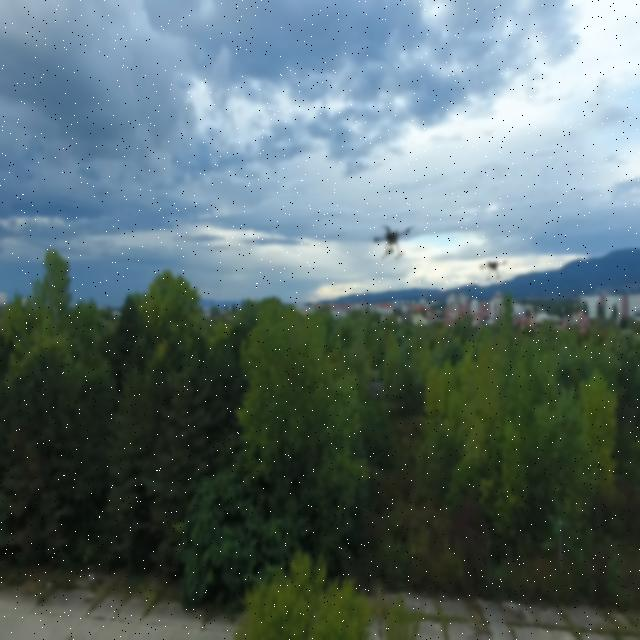UAV: (363, 220, 419, 263), (469, 254, 519, 280)
